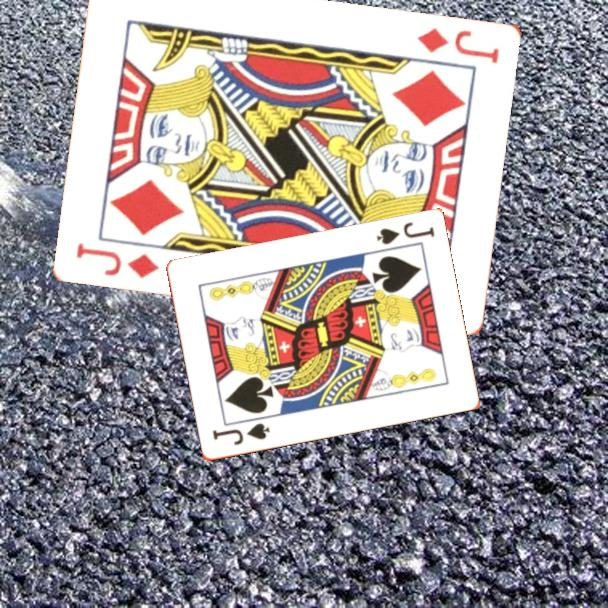d11: (73, 238, 163, 281), (414, 24, 503, 66)
s11: (209, 420, 273, 449), (373, 219, 437, 248)
